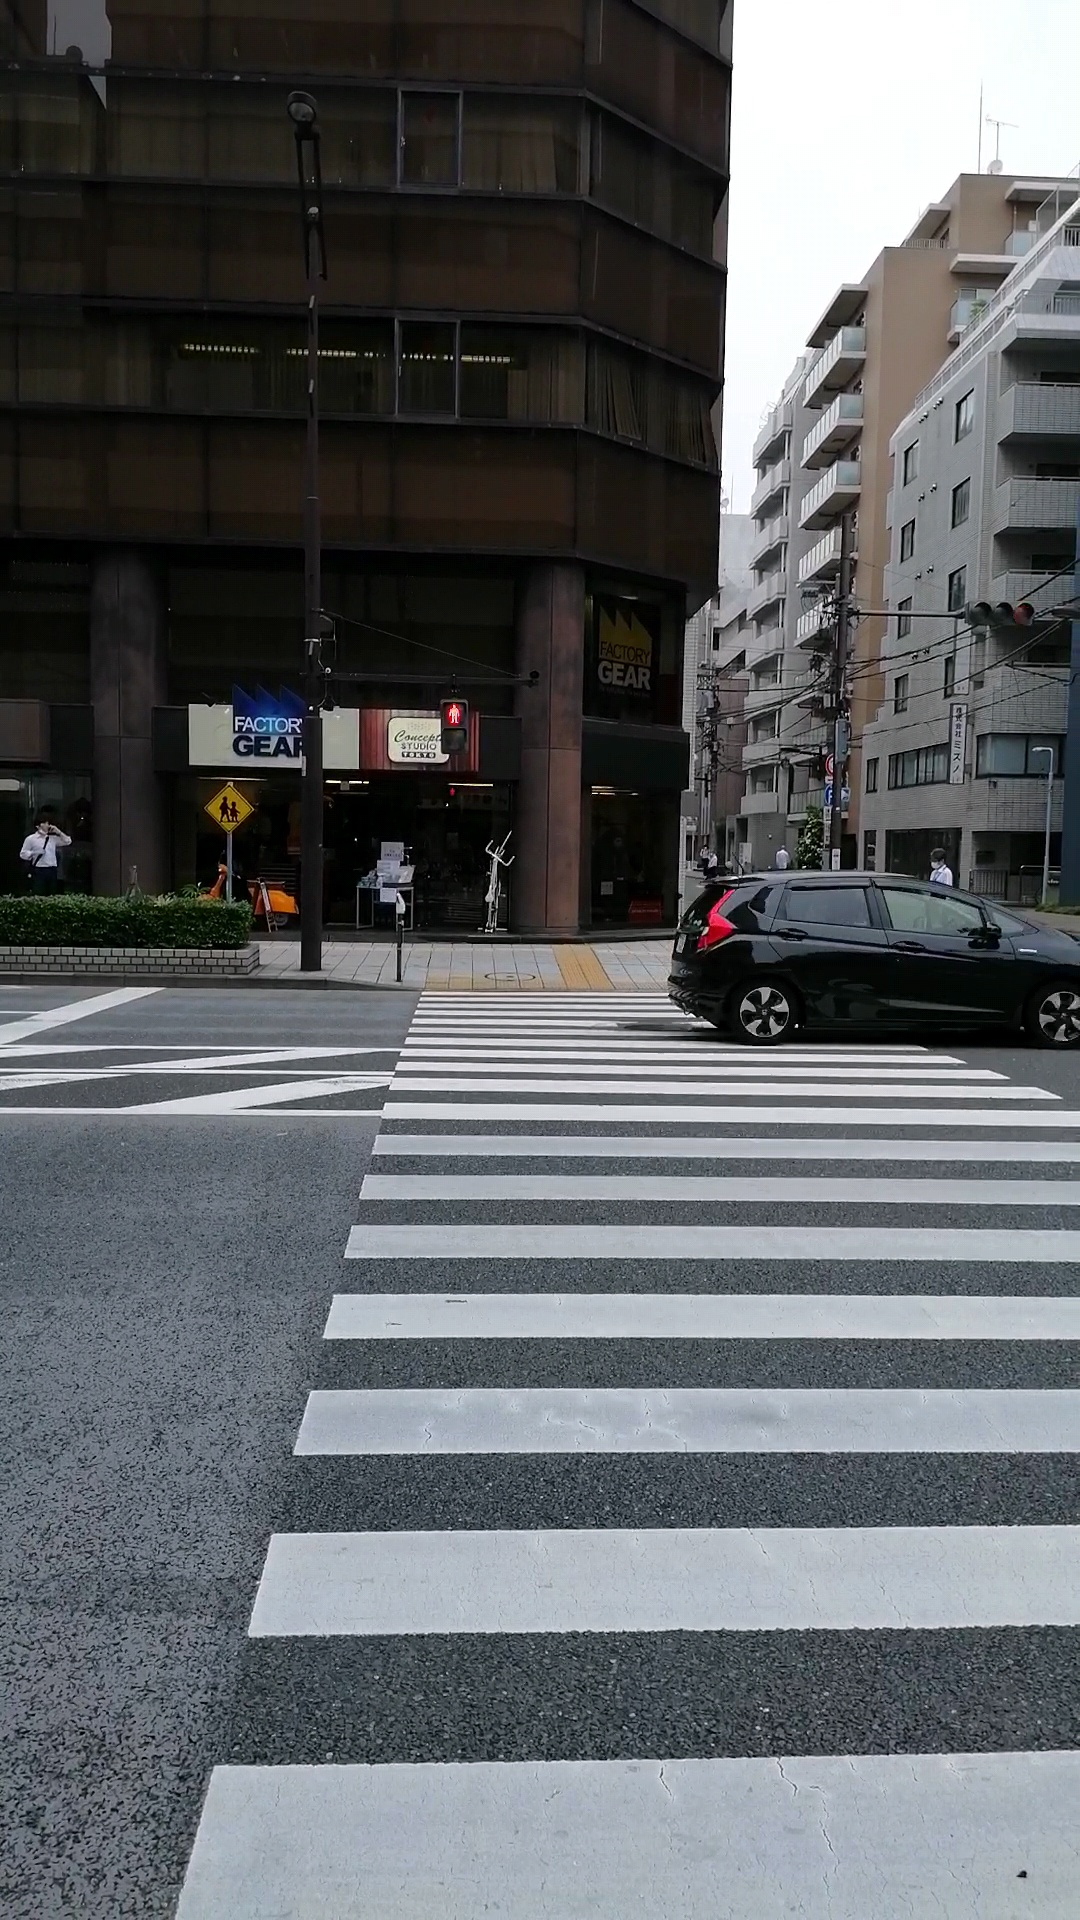red: (439, 698, 468, 756)
